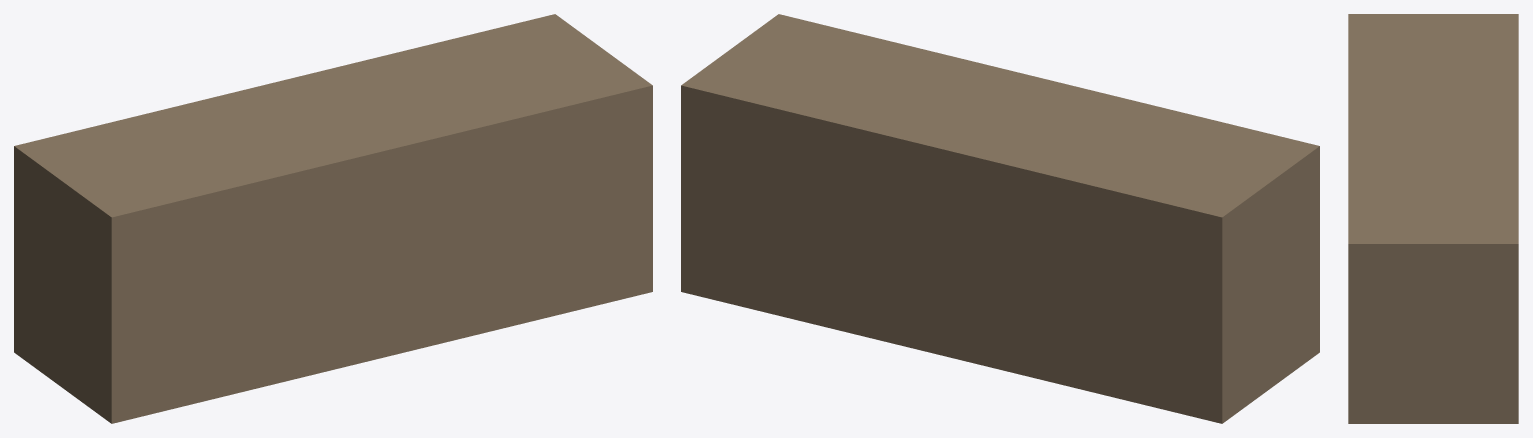
The picture shows the model from 3 angles, left to right: view 1: azimuth 30°, elevation 25°; view 2: azimuth 150°, elevation 25°; view 3: azimuth 270°, elevation 25°; orthographic projection. The views are drawn at different scales.
Parts seen in each view (by area): view 1: 兽首熔流口; view 2: 兽首熔流口; view 3: 兽首熔流口.
Boxes of the visible parts, x1,y1,x2,y2 form: 兽首熔流口: (14, 14, 652, 423); 兽首熔流口: (681, 14, 1319, 423); 兽首熔流口: (1348, 14, 1518, 423).
Size of the model in its own units: 4.8 by 1.75 by 1.5.
